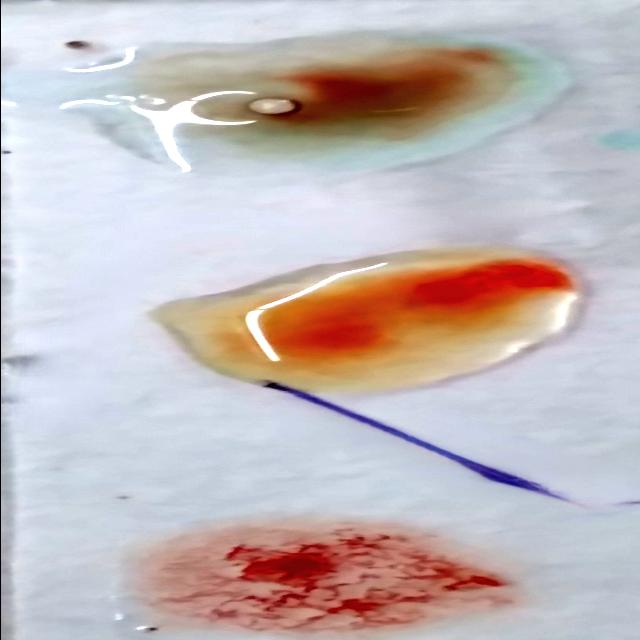D: (103, 522, 530, 627)
